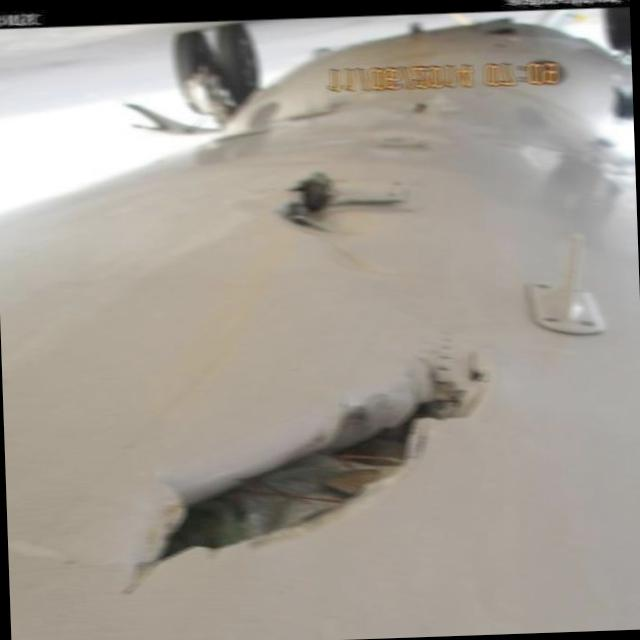crack: (118, 345, 498, 594)
